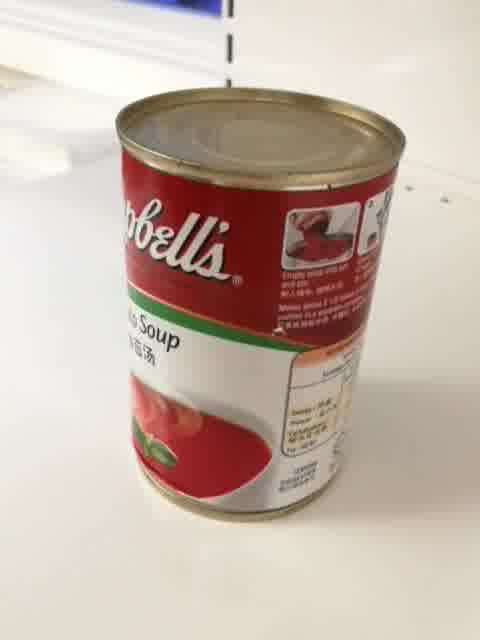tomatosoup: (112, 83, 407, 526)
